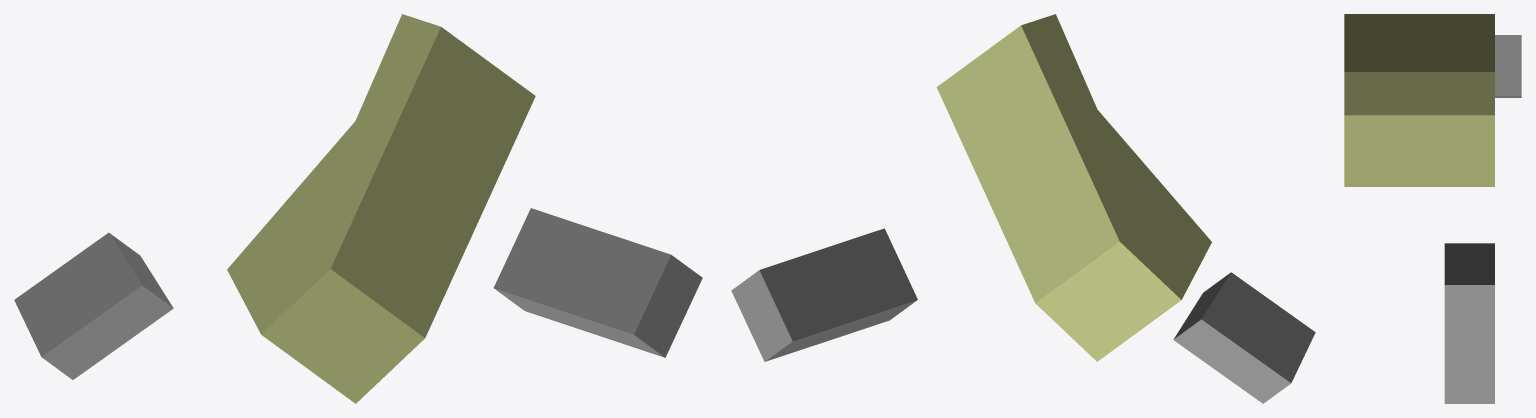
3 renders of one model, left to right at view 1: azimuth 30°, elevation 25°; view 2: azimuth 150°, elevation 25°; view 3: azimuth 270°, elevation 25°, orthographic. The views are drawn at different scales.
Parts seen in each view (by area): view 1: 0_1_0_0_0_1_2_2_2; view 2: 0_1_0_0_0_1_2_2_2; view 3: 0_1_0_0_0_1_2_2_2.
Boxes of the visible parts, x1,y1,x2,y2 form: 0_1_0_0_0_1_2_2_2: (14, 14, 702, 403); 0_1_0_0_0_1_2_2_2: (731, 14, 1315, 403); 0_1_0_0_0_1_2_2_2: (1344, 14, 1521, 403).
Bounding box in the file's own units: 35.15 × 19.8 × 10.6.
